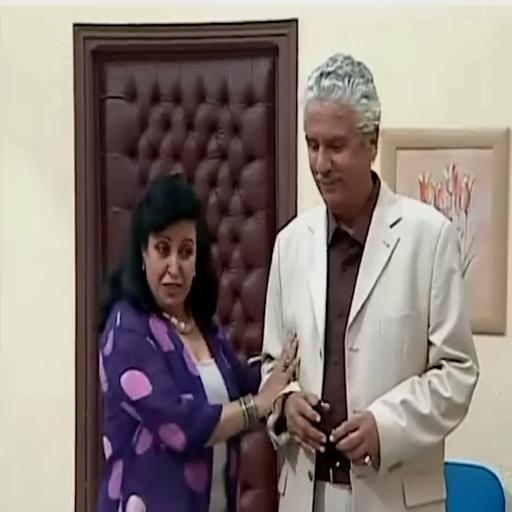jannet: (129, 175, 217, 323)
